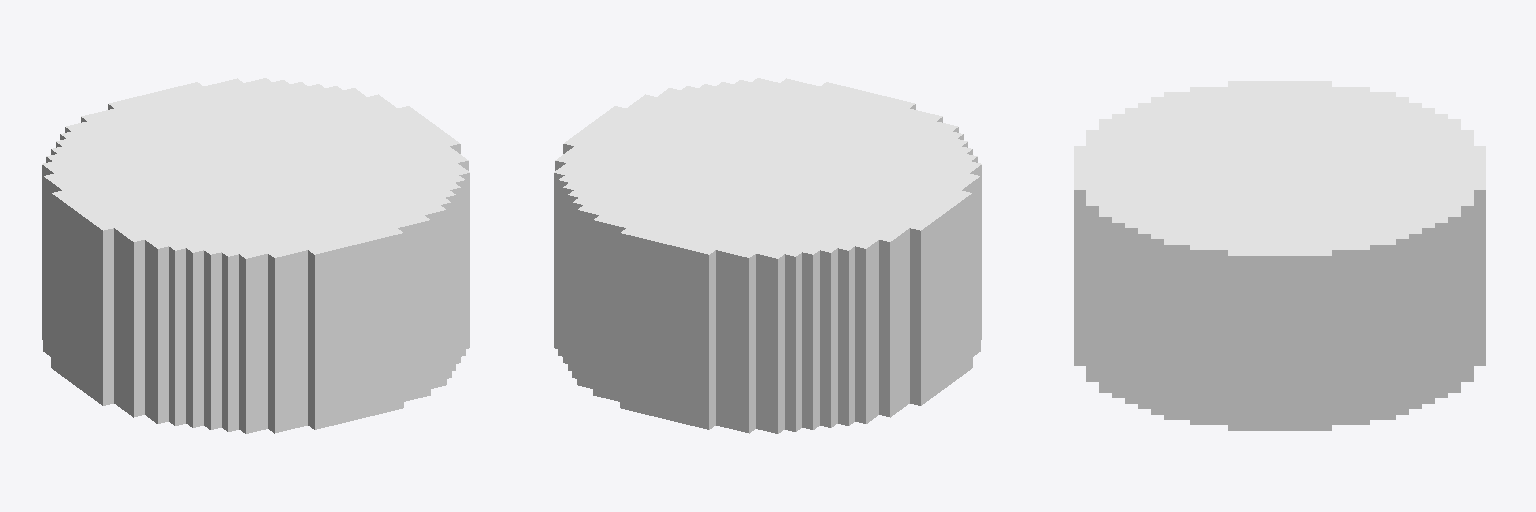
The model's file is LaserTower-1.obj.
3 renders of one model, left to right at view 1: azimuth 30°, elevation 25°; view 2: azimuth 150°, elevation 25°; view 3: azimuth 270°, elevation 25°, orthographic.
Visible parts, largest first — view 1: object 1; view 2: object 1; view 3: object 1.
Boxes of the visible parts, x1,y1,x2,y2 form: object 1: [42, 78, 469, 433]; object 1: [554, 78, 981, 433]; object 1: [1074, 81, 1485, 430].
Bounding box in the file's own units: 3.2 × 1.5 × 3.2.